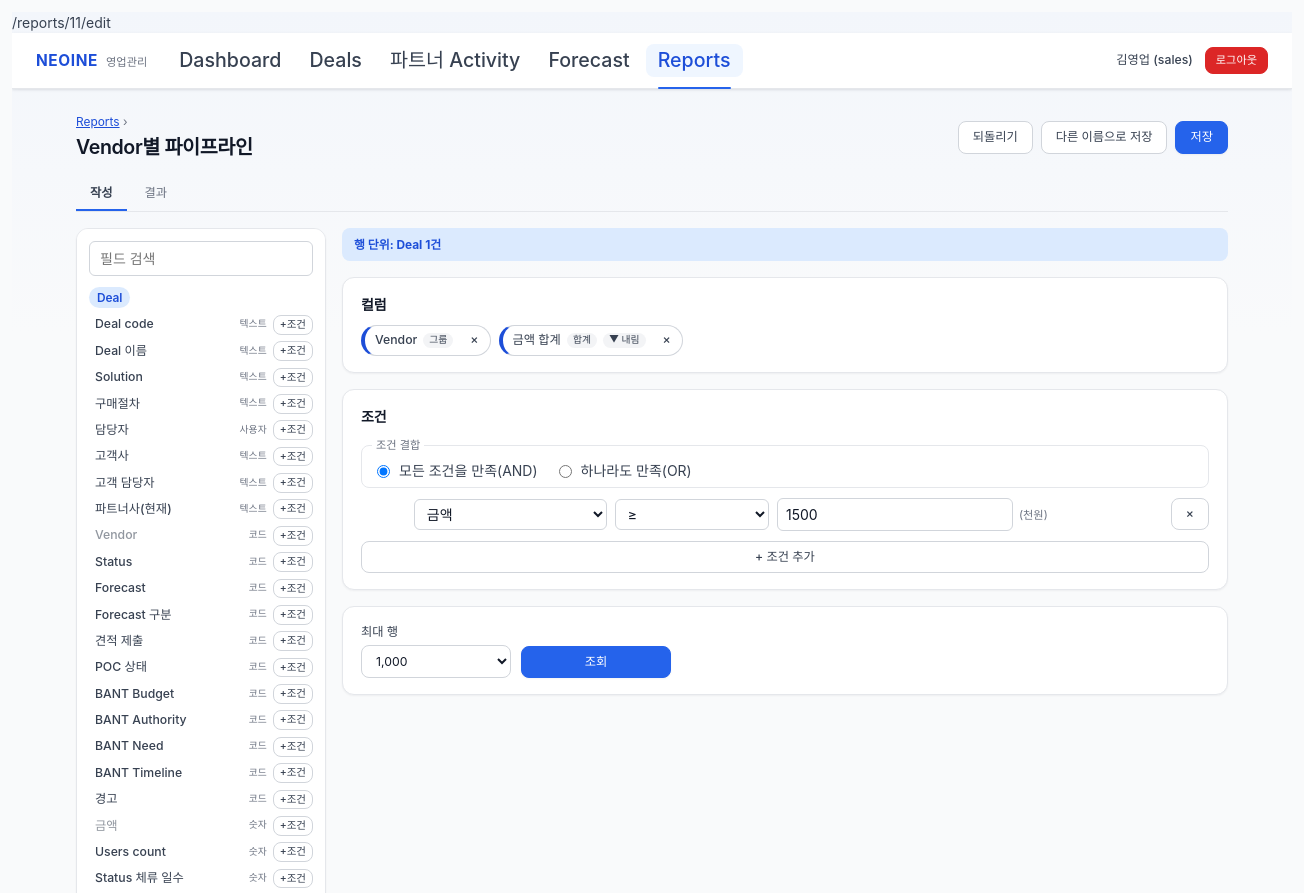
Test case: 편집 화면에서 떠날 때 확인 (AC18, S19) › leaves without asking after the change was undone
The width and height of the screenshot is (1304, 893).
Click the button with aria-label "Deal code 컬럼에 추가": (161, 325) [89,312,234,337]
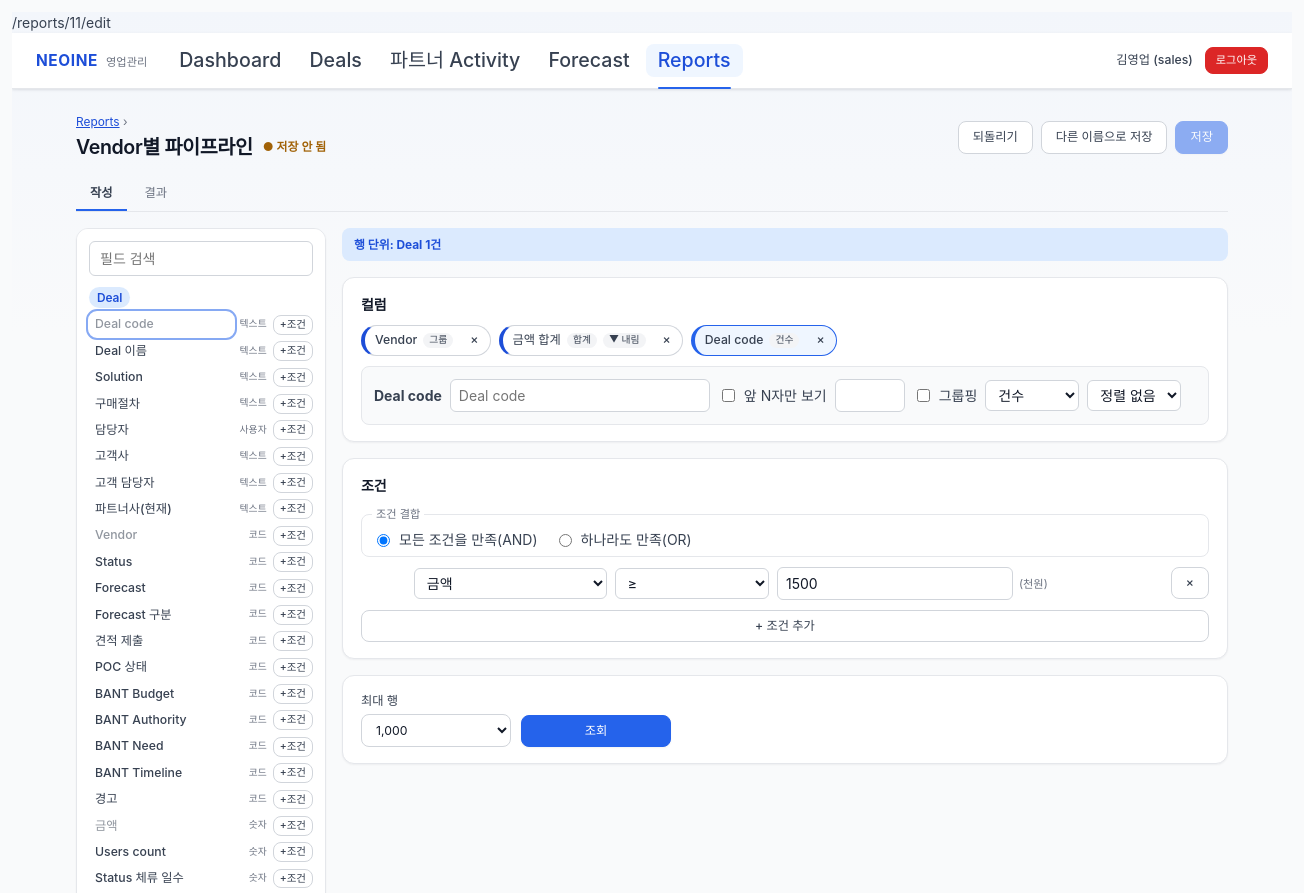
Click the button "Deal code 건수": (752, 341) [697,328,808,353]
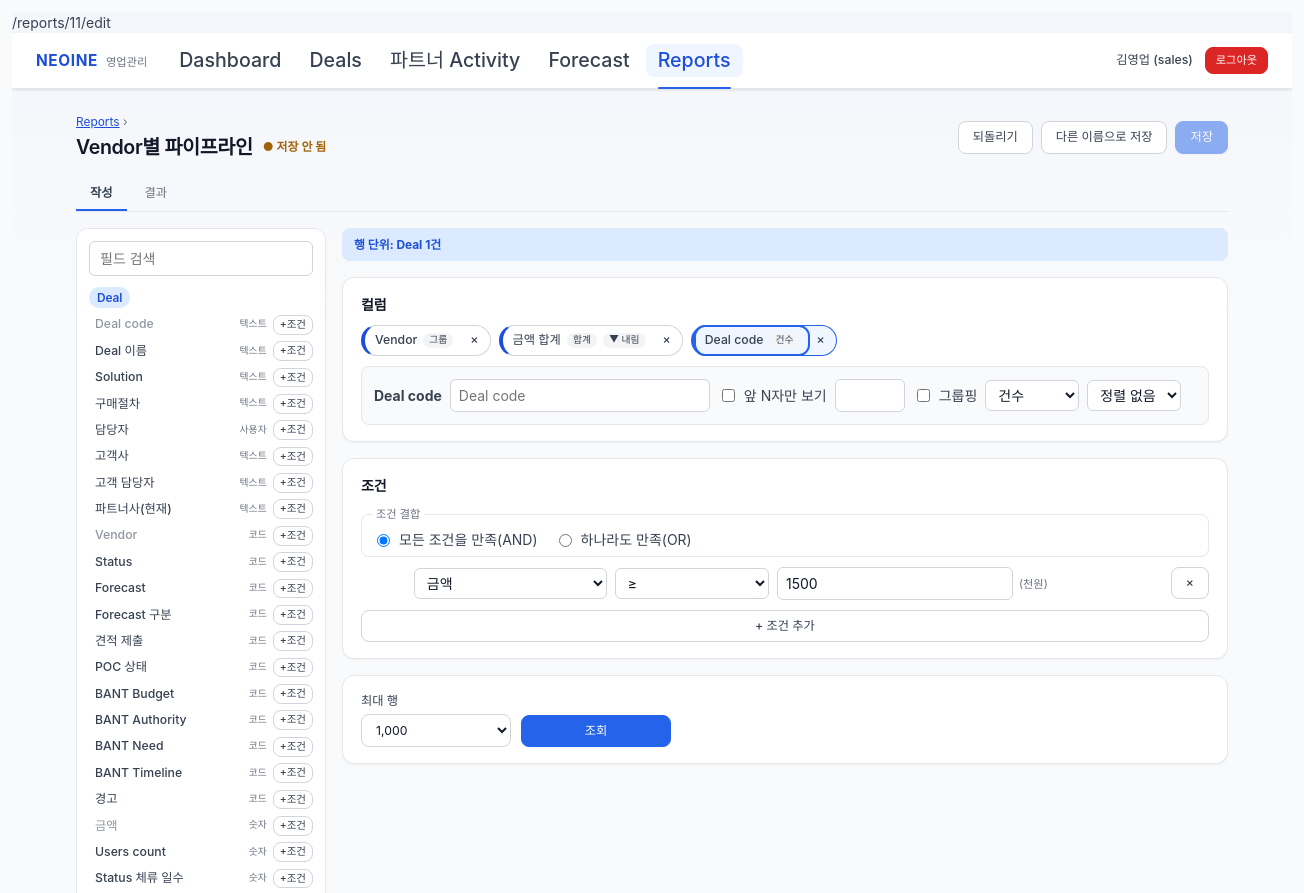
Select "건수" in the dropdown named "집계": (1032, 395) [985,380,1079,411]
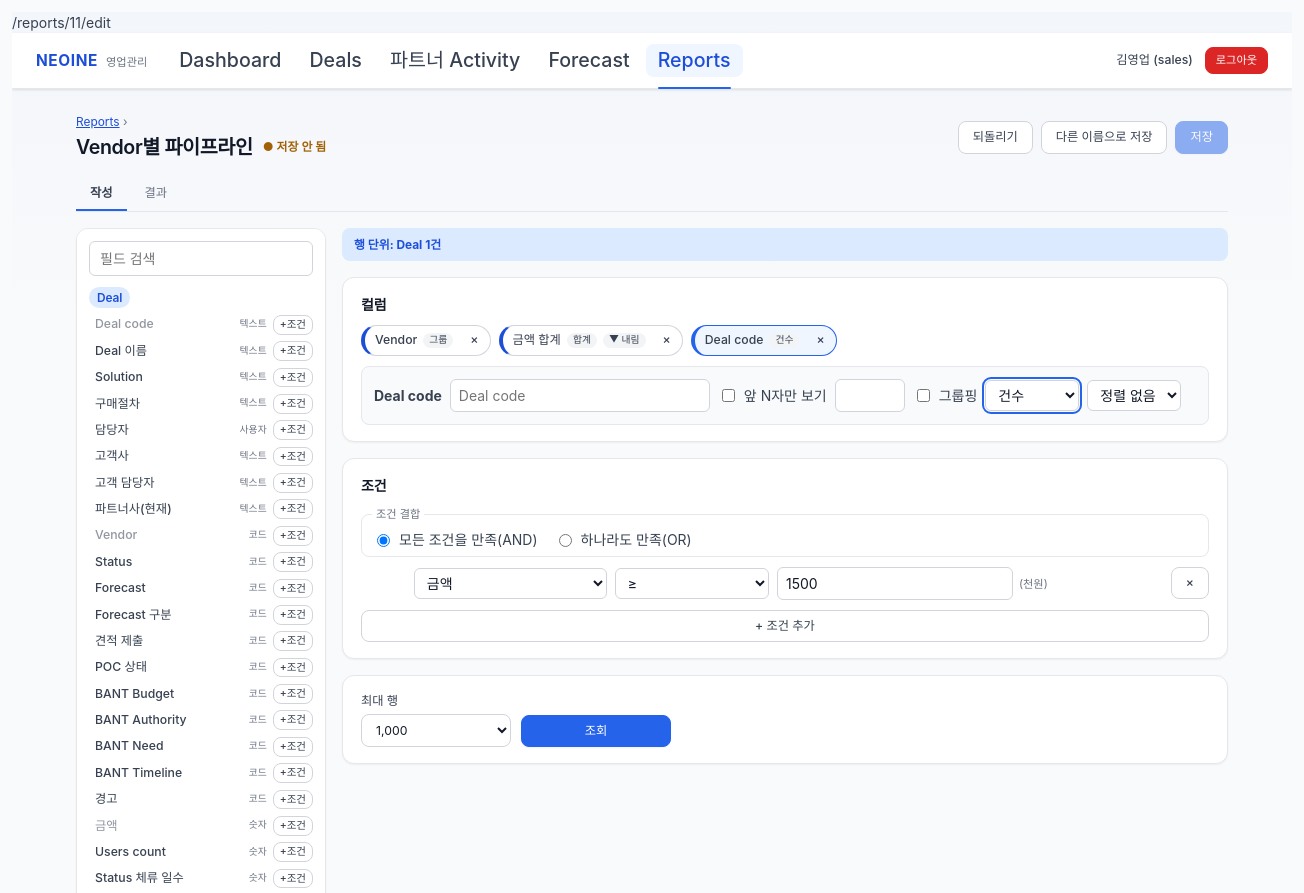
Click the button named "Deal code 빼기": (821, 341) [810,330,832,352]
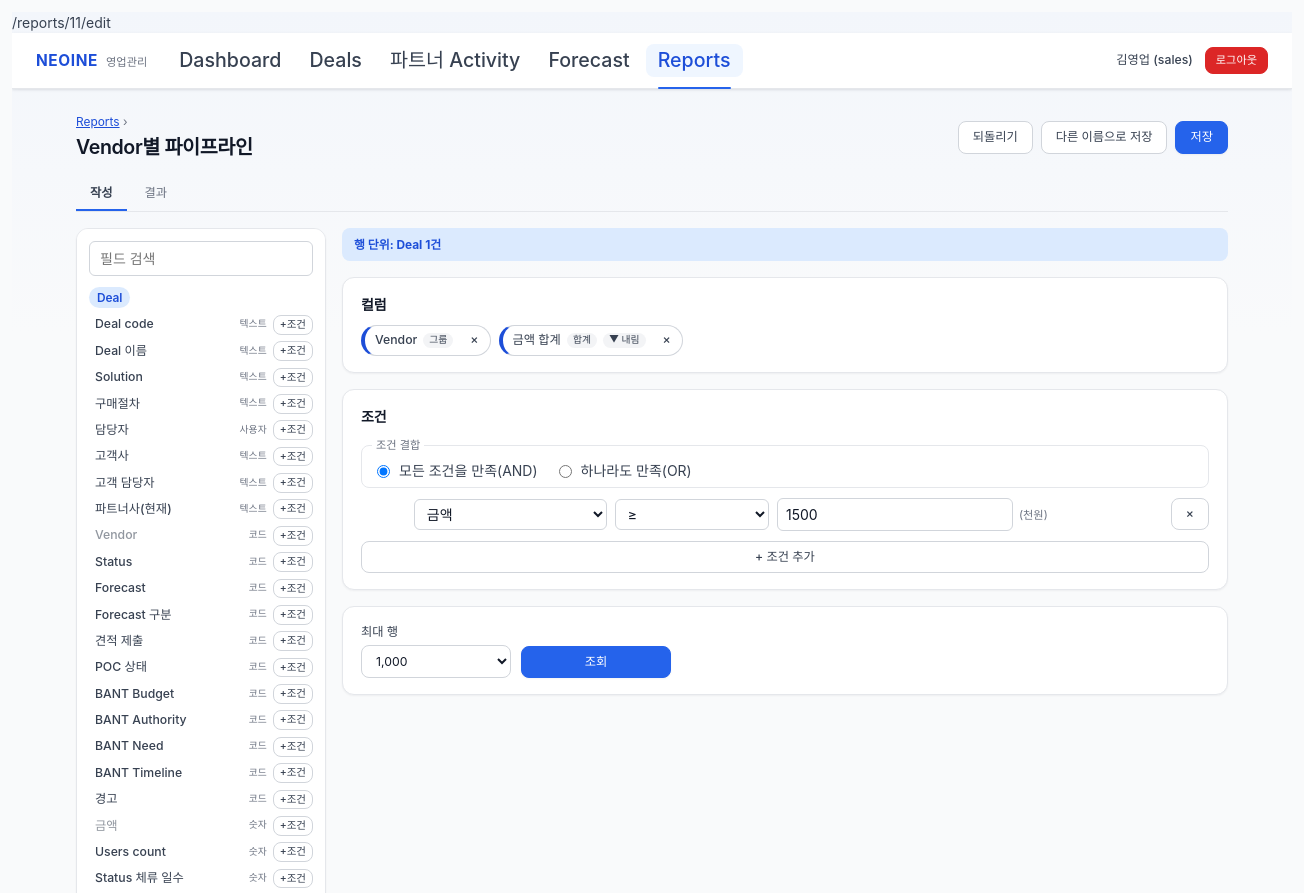
Click the link "Deals": (336, 60) [309,48,362,72]
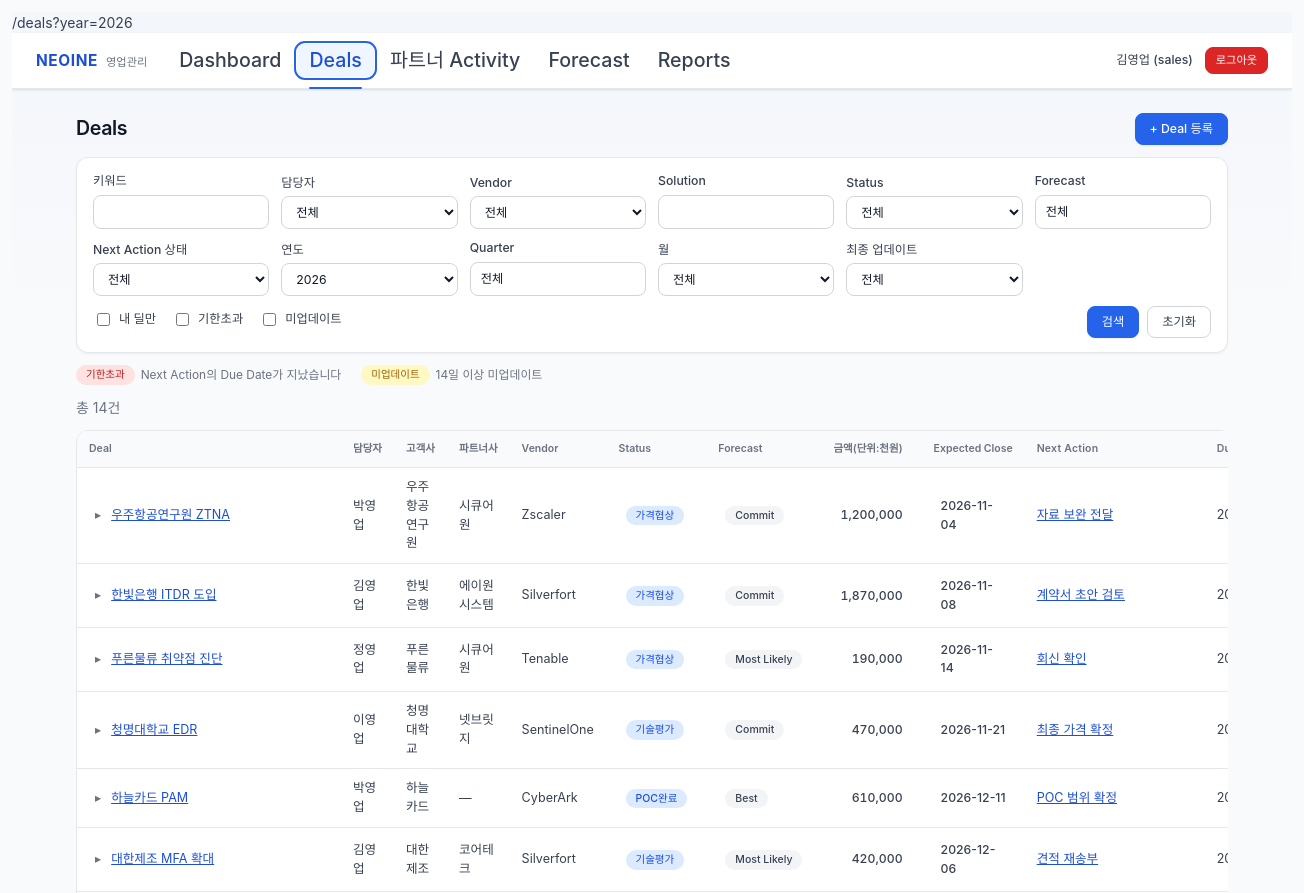
Result: the text with test id "location" shows "/deals" at [12,14,133,31]
